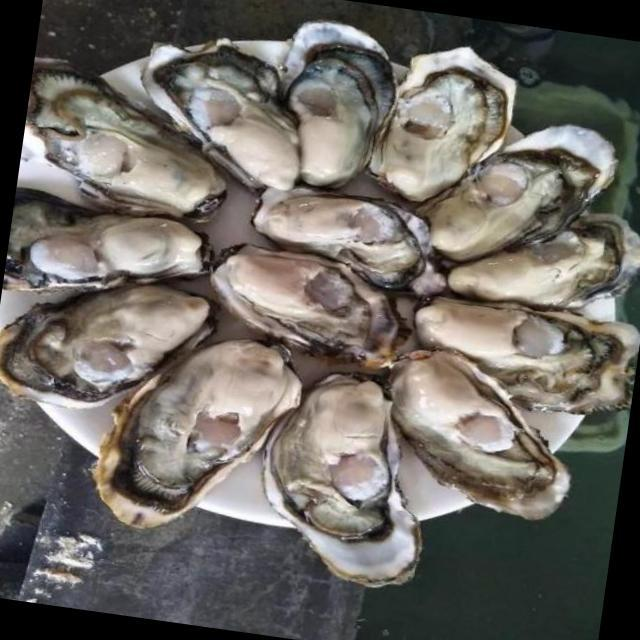Oyster-Open: (77, 331, 314, 539), (22, 31, 240, 230), (254, 365, 430, 596), (378, 338, 580, 526), (405, 117, 632, 276), (407, 294, 640, 442), (191, 230, 417, 381), (0, 271, 227, 418), (128, 21, 310, 200), (0, 176, 224, 313), (240, 177, 460, 310), (359, 38, 527, 209), (272, 9, 401, 195), (436, 205, 640, 317)
